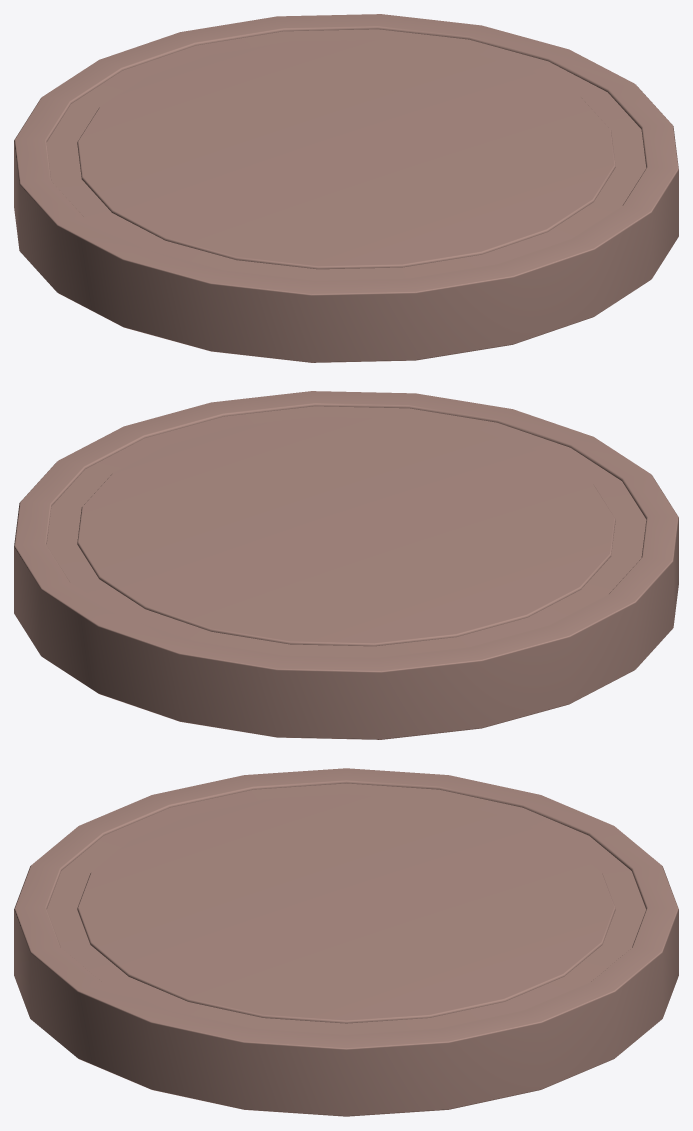
The model's file is Store_1_Pizza_Board_2.glb.
3 views of the same model, one above another, from view 1: azimuth 30°, elevation 25°; view 2: azimuth 150°, elevation 25°; view 3: azimuth 270°, elevation 25° (orthographic).
Visible parts, largest first — view 1: Store_1_Pizza_Board_2; view 2: Store_1_Pizza_Board_2; view 3: Store_1_Pizza_Board_2.
Boxes of the visible parts, x1,y1,x2,y2 form: Store_1_Pizza_Board_2: [14, 14, 678, 362]; Store_1_Pizza_Board_2: [14, 391, 678, 739]; Store_1_Pizza_Board_2: [14, 768, 678, 1116].
Size of the model in its own units: 0.7191 by 0.0849 by 0.7191.
Materials: 1 (1 with a texture image).
